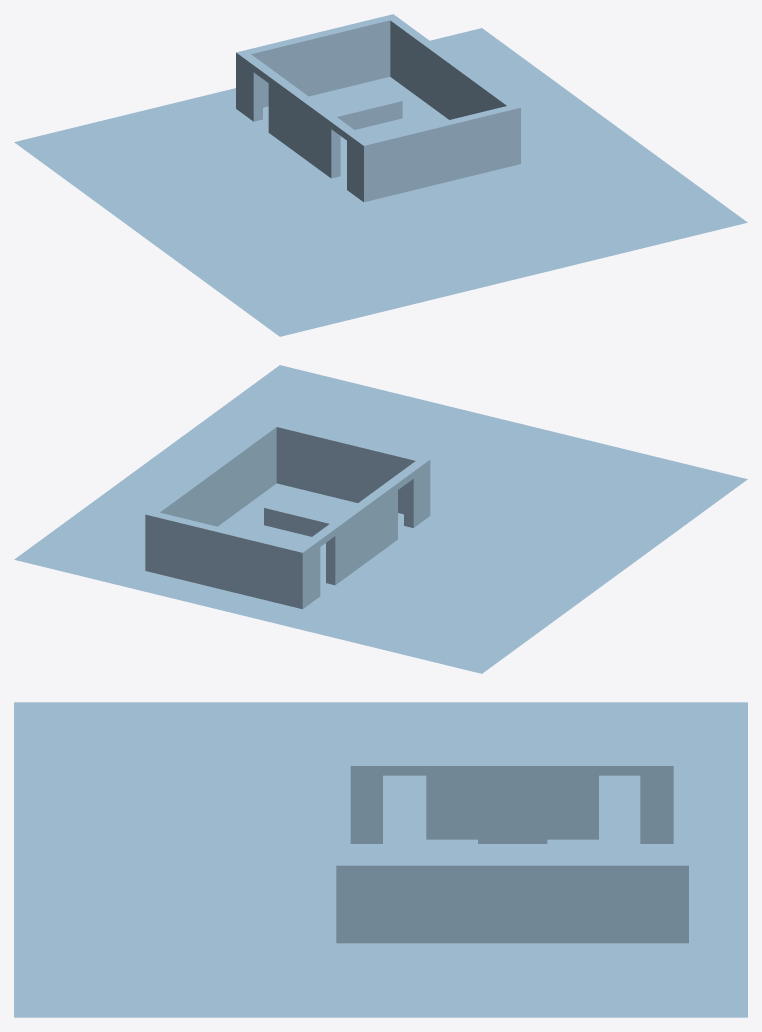
File: Lab_Floor1.dae
3 views of the same model, one above another, from view 1: azimuth 30°, elevation 25°; view 2: azimuth 150°, elevation 25°; view 3: azimuth 270°, elevation 25° (orthographic). The views are drawn at different scales.
Visible parts, largest first — view 1: Lab_Floor1; view 2: Lab_Floor1; view 3: Lab_Floor1.
Part boxes in pixels (x1,y1,x2,y2): Lab_Floor1: (14,14,747,336); Lab_Floor1: (14,365,747,673); Lab_Floor1: (14,702,747,1017).
Size of the model in its own units: 22.97 by 22.61 by 3.83.
